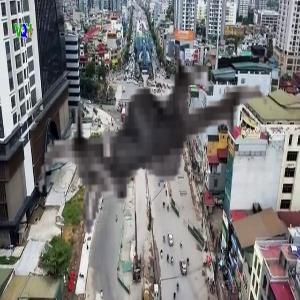drone: (31, 19, 293, 281)
